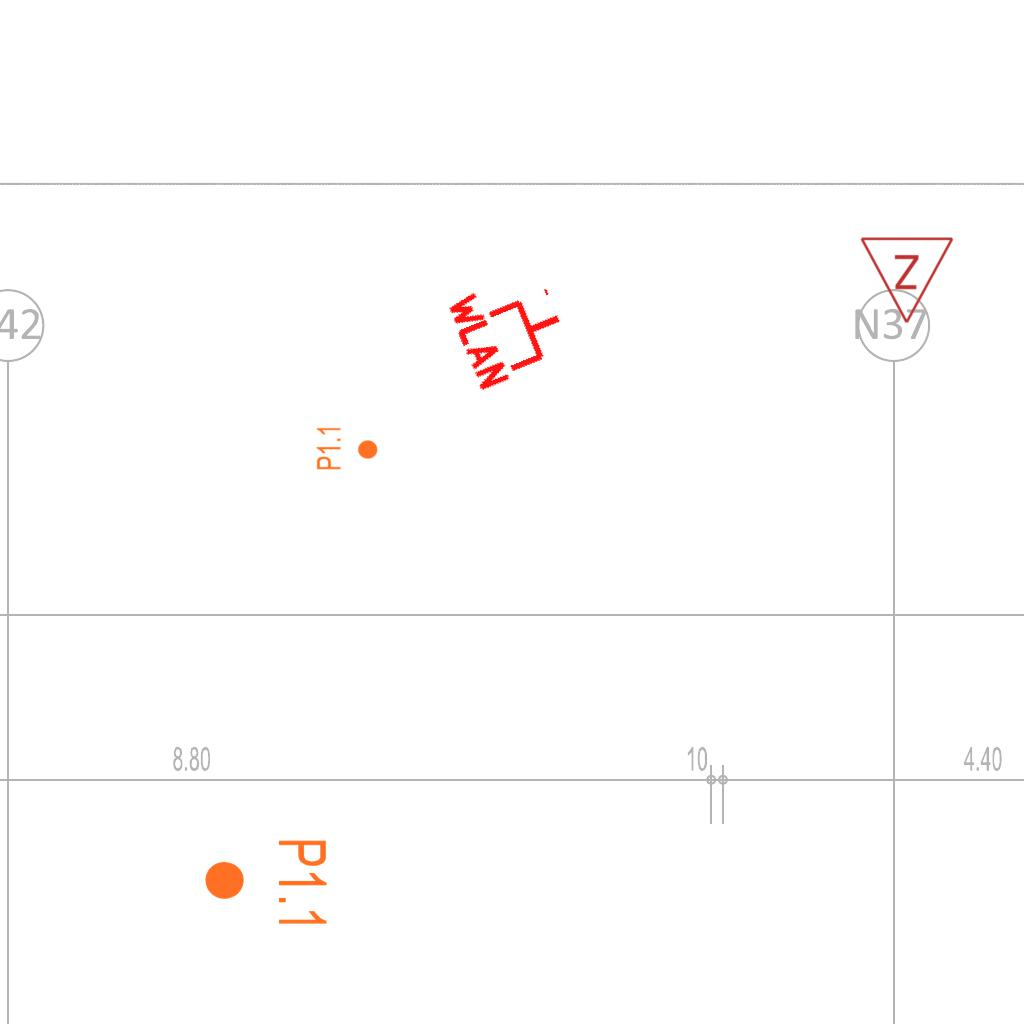Downlight_LED_Einbauleuchten_Flur: (202, 837, 330, 930), (315, 425, 379, 471)
WLAN: (442, 260, 579, 396)
Zimmersignalleuchte: (859, 230, 957, 330)
